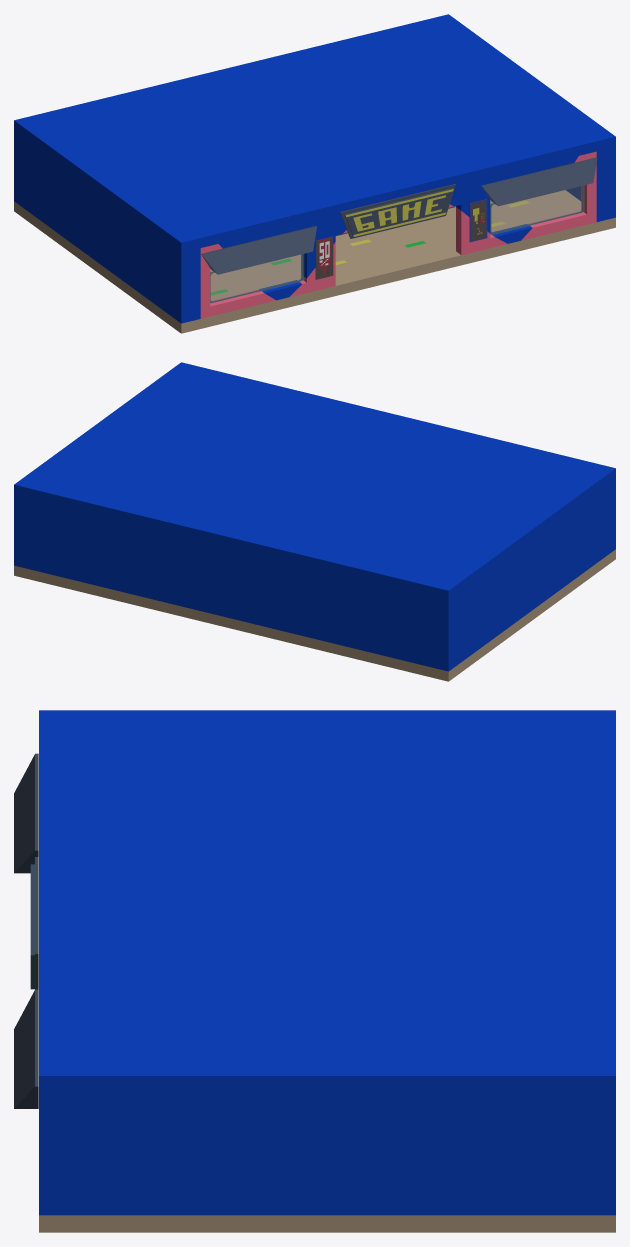
Rendered from Tienda de Videojuegos 1.fbx.
The picture shows the model from 3 angles, top to bottom: view 1: azimuth 30°, elevation 25°; view 2: azimuth 150°, elevation 25°; view 3: azimuth 270°, elevation 25°; orthographic projection. The views are drawn at different scales.
Visible parts, largest first — view 1: Techo_9, Piso_9, Pared_1x10x26, Fachada_10, Letrero_8, Anti_lluvia_3, Anti_lluvia_4, Vidrio_Vid_2, Vidrio_Vid_1, Esquina_1x10x37, Esquina_1x10x38, Esquina_1x10x1 (+2 smaller); view 2: Techo_9, Pared_31x10x1, Pared_1x10x26, Piso_9, Esquina_1x10x1, Esquina_1x10x55, Esquina_1x10x37; view 3: Techo_9, Pared_1x10x111, Piso_9, Esquina_1x10x38, Esquina_1x10x55, Anti_lluvia_4, Anti_lluvia_3, Letrero_8.
Boxes of the visible parts, box(x1,y1,x2,y2) form: Techo_9: box(14, 14, 615, 252); Piso_9: box(14, 190, 615, 333); Pared_1x10x26: box(25, 138, 169, 314); Fachada_10: box(200, 151, 596, 318); Letrero_8: box(340, 184, 455, 238); Anti_lluvia_3: box(201, 226, 316, 274); Anti_lluvia_4: box(481, 157, 597, 206); Vidrio_Vid_2: box(490, 186, 584, 235); Vidrio_Vid_1: box(210, 254, 303, 303); Esquina_1x10x37: box(170, 245, 200, 323); Esquina_1x10x38: box(596, 147, 615, 221); Esquina_1x10x1: box(14, 130, 24, 208); Techo_9: box(14, 362, 615, 600); Pared_31x10x1: box(33, 499, 429, 666); Pared_1x10x26: box(460, 486, 604, 662); Piso_9: box(14, 549, 615, 681); Esquina_1x10x1: box(429, 593, 459, 671); Esquina_1x10x55: box(14, 495, 33, 569); Esquina_1x10x37: box(605, 478, 615, 556); Techo_9: box(39, 710, 615, 1093); Pared_1x10x111: box(77, 1093, 577, 1215); Piso_9: box(39, 1215, 615, 1232); Esquina_1x10x38: box(39, 1093, 77, 1215); Esquina_1x10x55: box(577, 1093, 615, 1215); Anti_lluvia_4: box(14, 989, 38, 1108); Anti_lluvia_3: box(14, 753, 38, 873); Letrero_8: box(30, 857, 38, 989).
Size of the model in its own units: 45 by 9 by 31.31.
